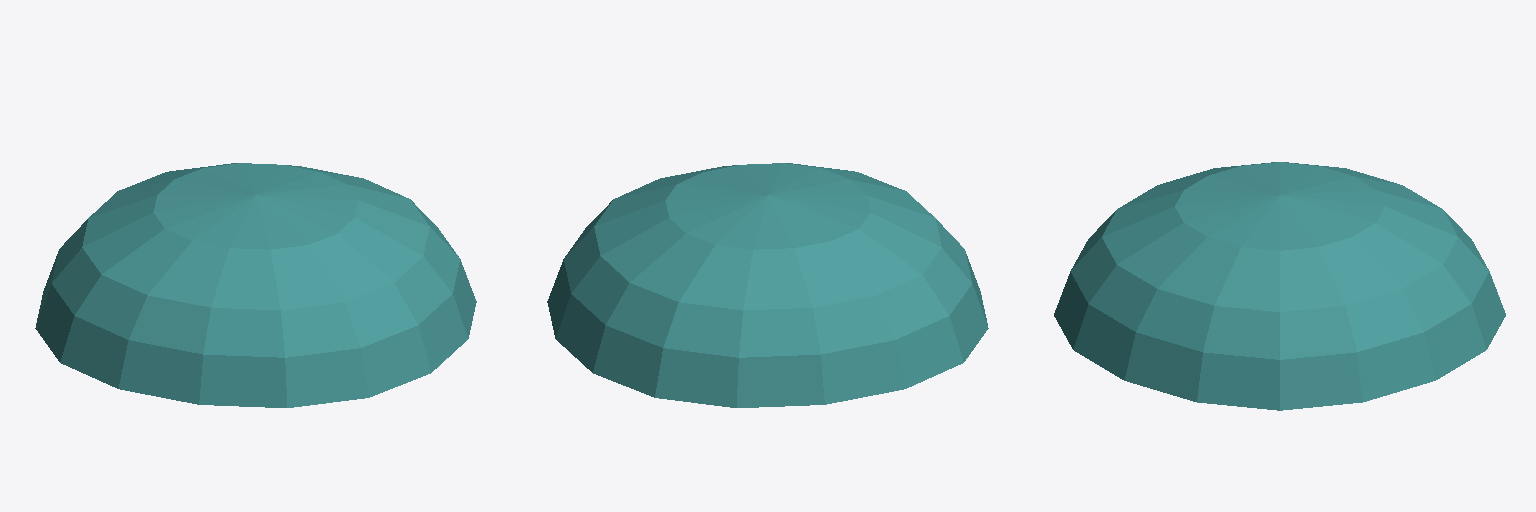
Rendered from skybox.obj.
The picture shows the model from 3 angles: view 1: azimuth 30°, elevation 25°; view 2: azimuth 150°, elevation 25°; view 3: azimuth 270°, elevation 25°; orthographic projection.
Visible parts, largest first — view 1: Object_2; view 2: Object_2; view 3: Object_2.
Part boxes in pixels (bbox=[...]): Object_2: bbox=[35, 163, 476, 407]; Object_2: bbox=[547, 163, 988, 407]; Object_2: bbox=[1054, 162, 1505, 410].
Size of the model in its own units: 375327 by 111066 by 375327.